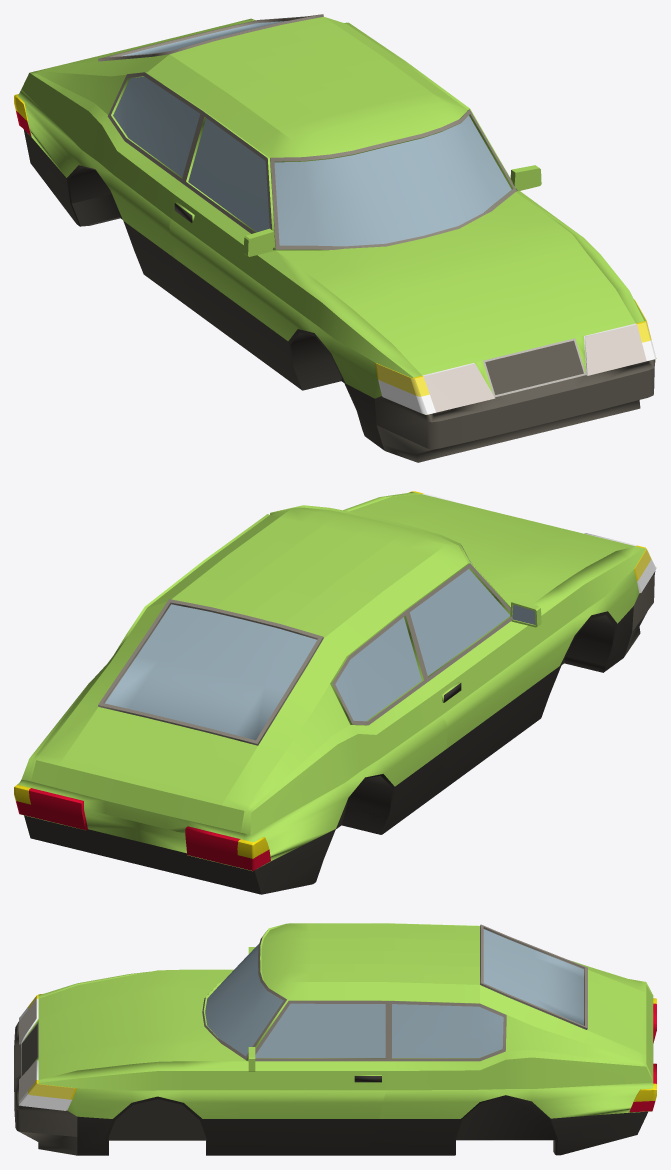
File: Turbo.fbx
3 views of the same model, one above another, from view 1: azimuth 30°, elevation 25°; view 2: azimuth 150°, elevation 25°; view 3: azimuth 270°, elevation 25° (orthographic). The views are drawn at different scales.
Parts seen in each view (by area): view 1: Body, Hood, Door_R, Trunk, Door_L; view 2: Body, Trunk, Door_R, Hood; view 3: Body, Door_L, Hood, Trunk.
Boxes of the visible parts, x1,y1,x2,y2 form: Body: (14,16,656,462); Hood: (276,192,635,375); Door_R: (169,111,278,372); Trunk: (63,14,323,64); Door_L: (405,62,541,195); Body: (14,491,656,894); Trunk: (55,599,323,826); Door_R: (405,563,541,791); Hood: (349,494,634,607); Body: (14,923,656,1155); Door_L: (242,1000,388,1155); Hood: (38,969,246,1079); Trunk: (480,924,652,1068).
Size of the model in its own units: 2.14 by 1.42 by 5.18.
